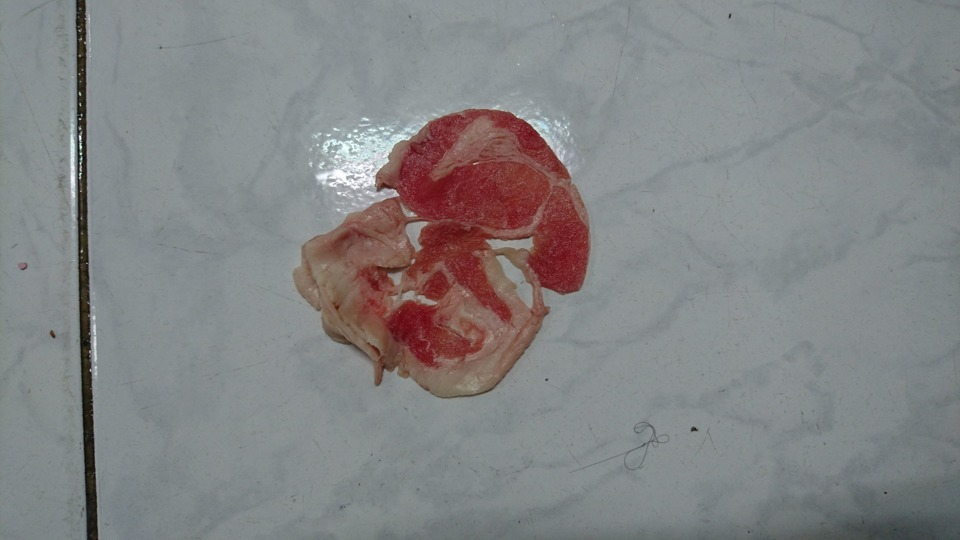restructured meat: (297, 104, 590, 403)
